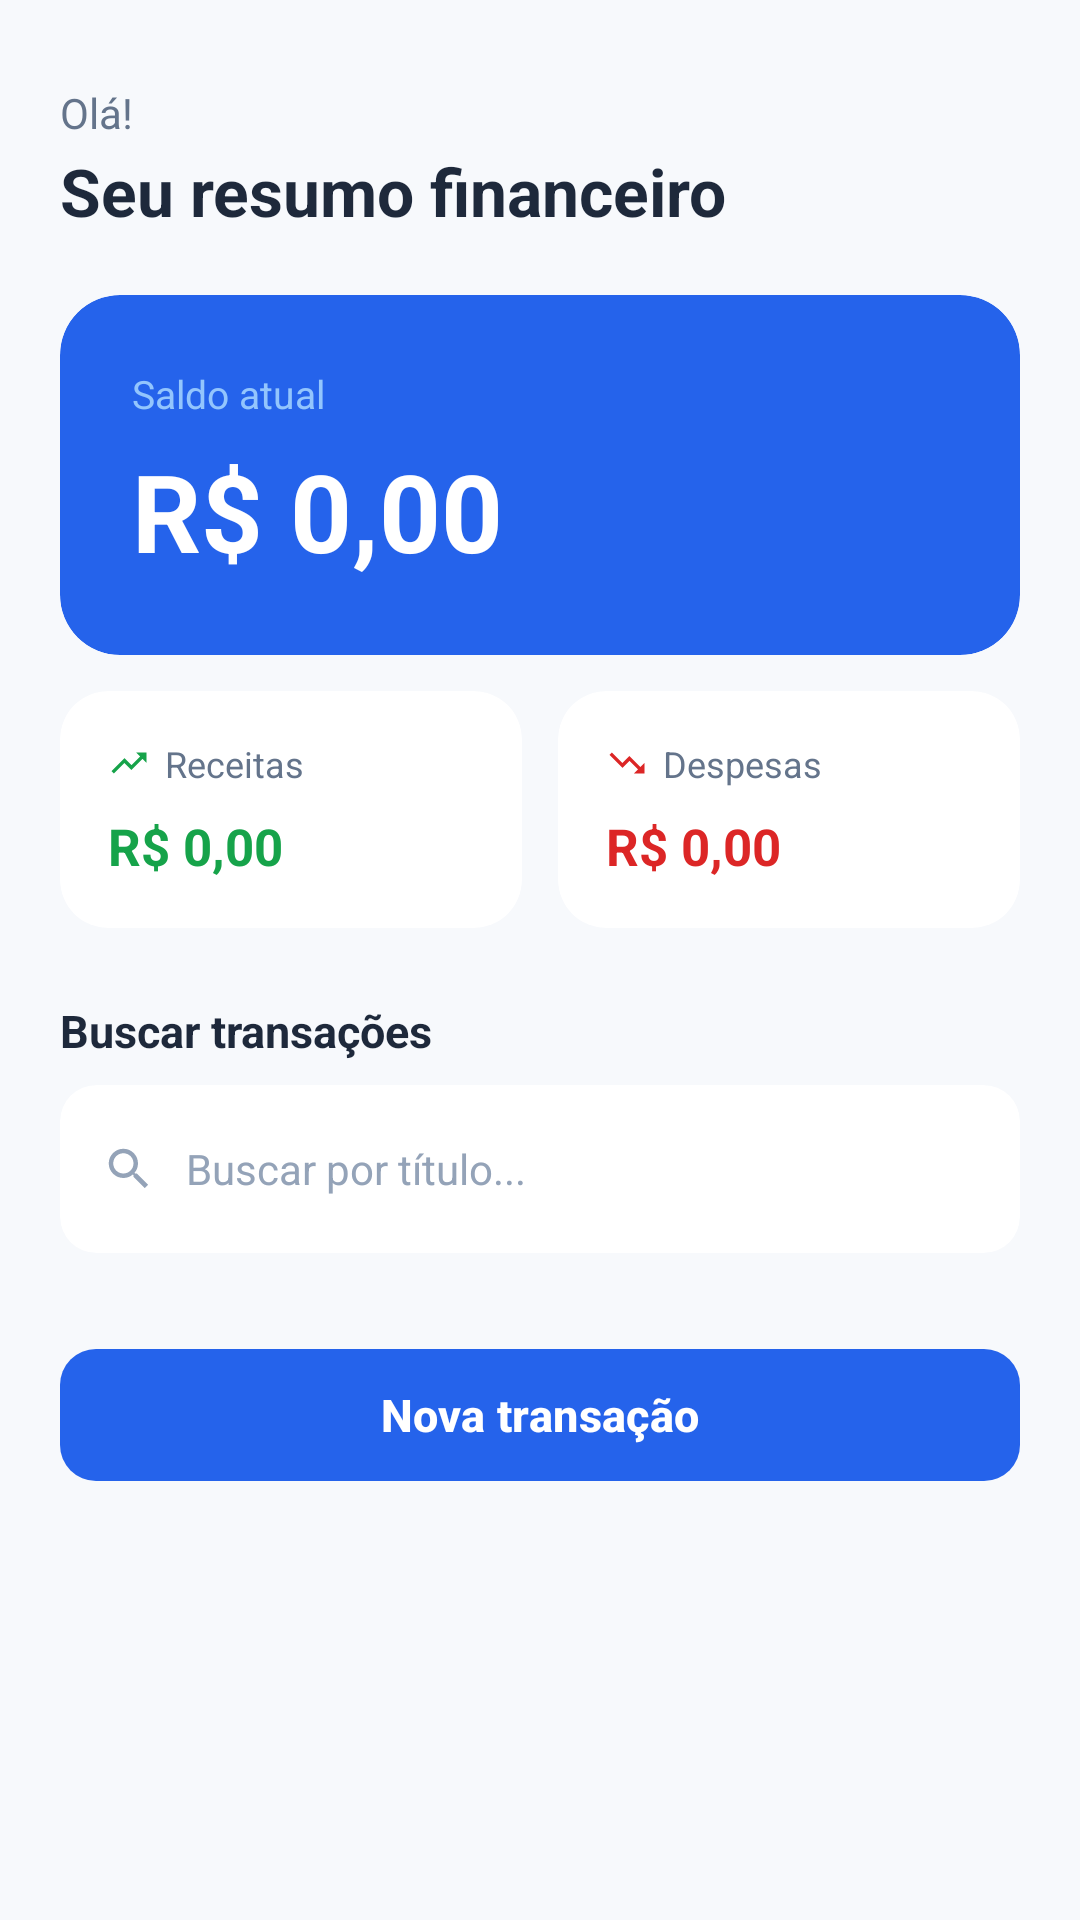

Icon click points for this 1080px×1920px phone screenshot, format point (x, y):
search: point (128, 1168)
trending down: point (627, 763)
trending up: point (129, 763)
